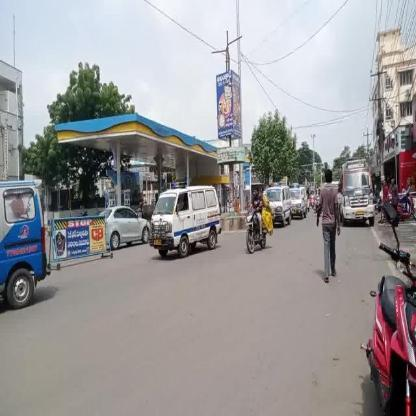priority: (142, 182, 228, 260), (3, 172, 47, 314), (340, 149, 378, 233), (263, 183, 289, 225), (294, 179, 304, 225)
